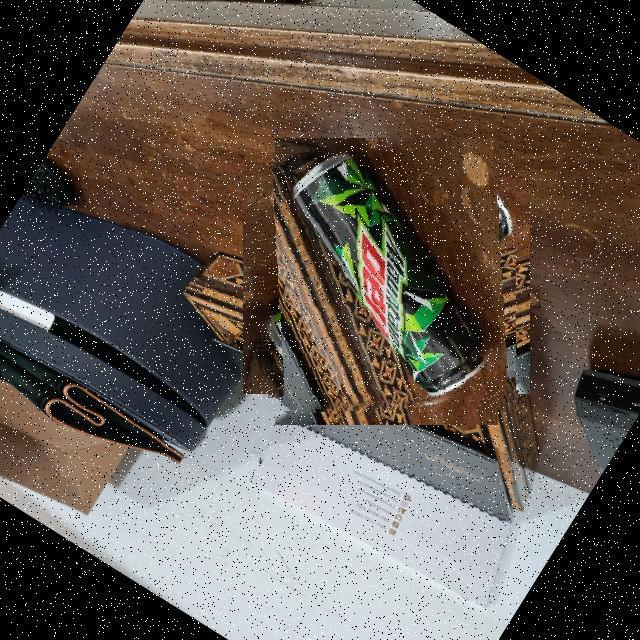recyclable: (257, 152, 516, 412)
